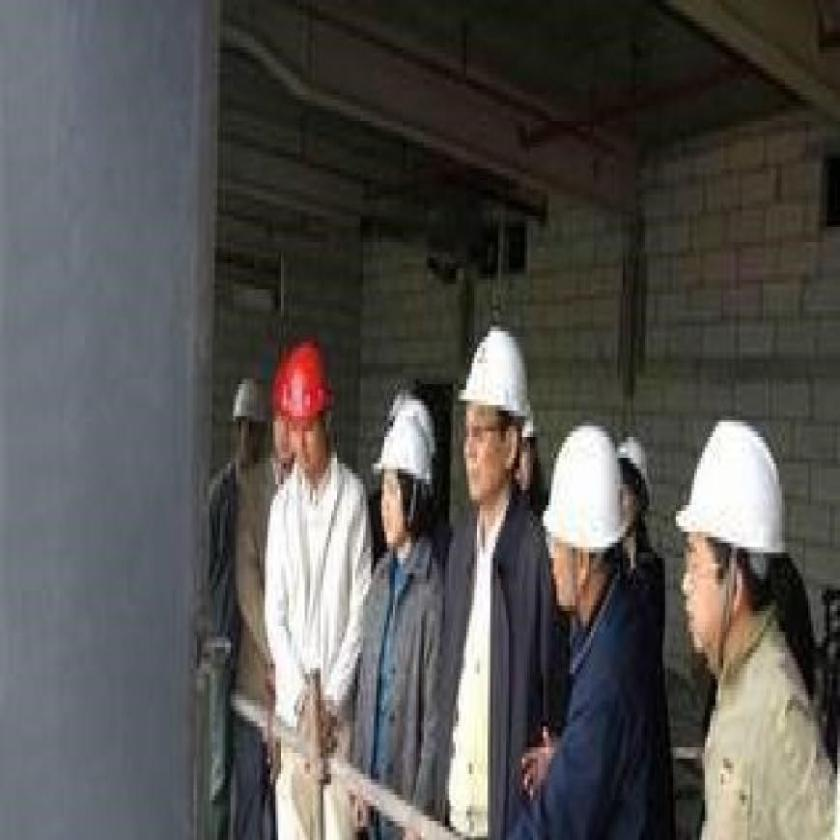Con_casco: (678, 410, 782, 670), (540, 424, 633, 603), (454, 326, 528, 506), (374, 414, 434, 552), (286, 337, 338, 478), (229, 372, 269, 471), (619, 428, 652, 518), (520, 402, 543, 504), (270, 352, 292, 458)
